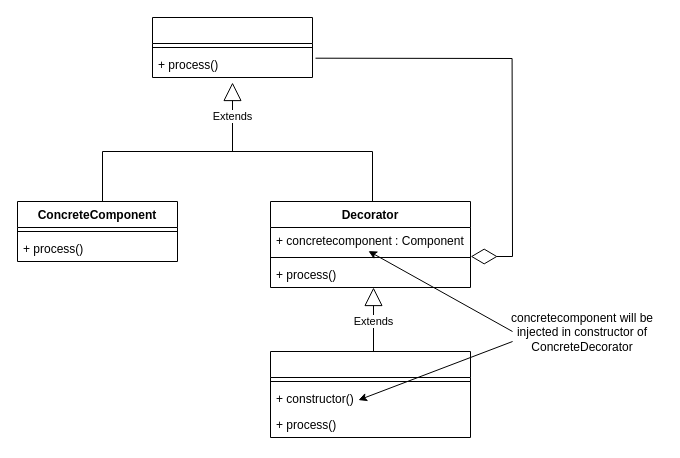
The diagram is 680 pixels wide and 458 high, and some of its shapes have lost their labels. Each missing label, with the box of its shape:
Component: (152, 16, 312, 78)
ConcreteDecorator: (270, 350, 470, 438)
